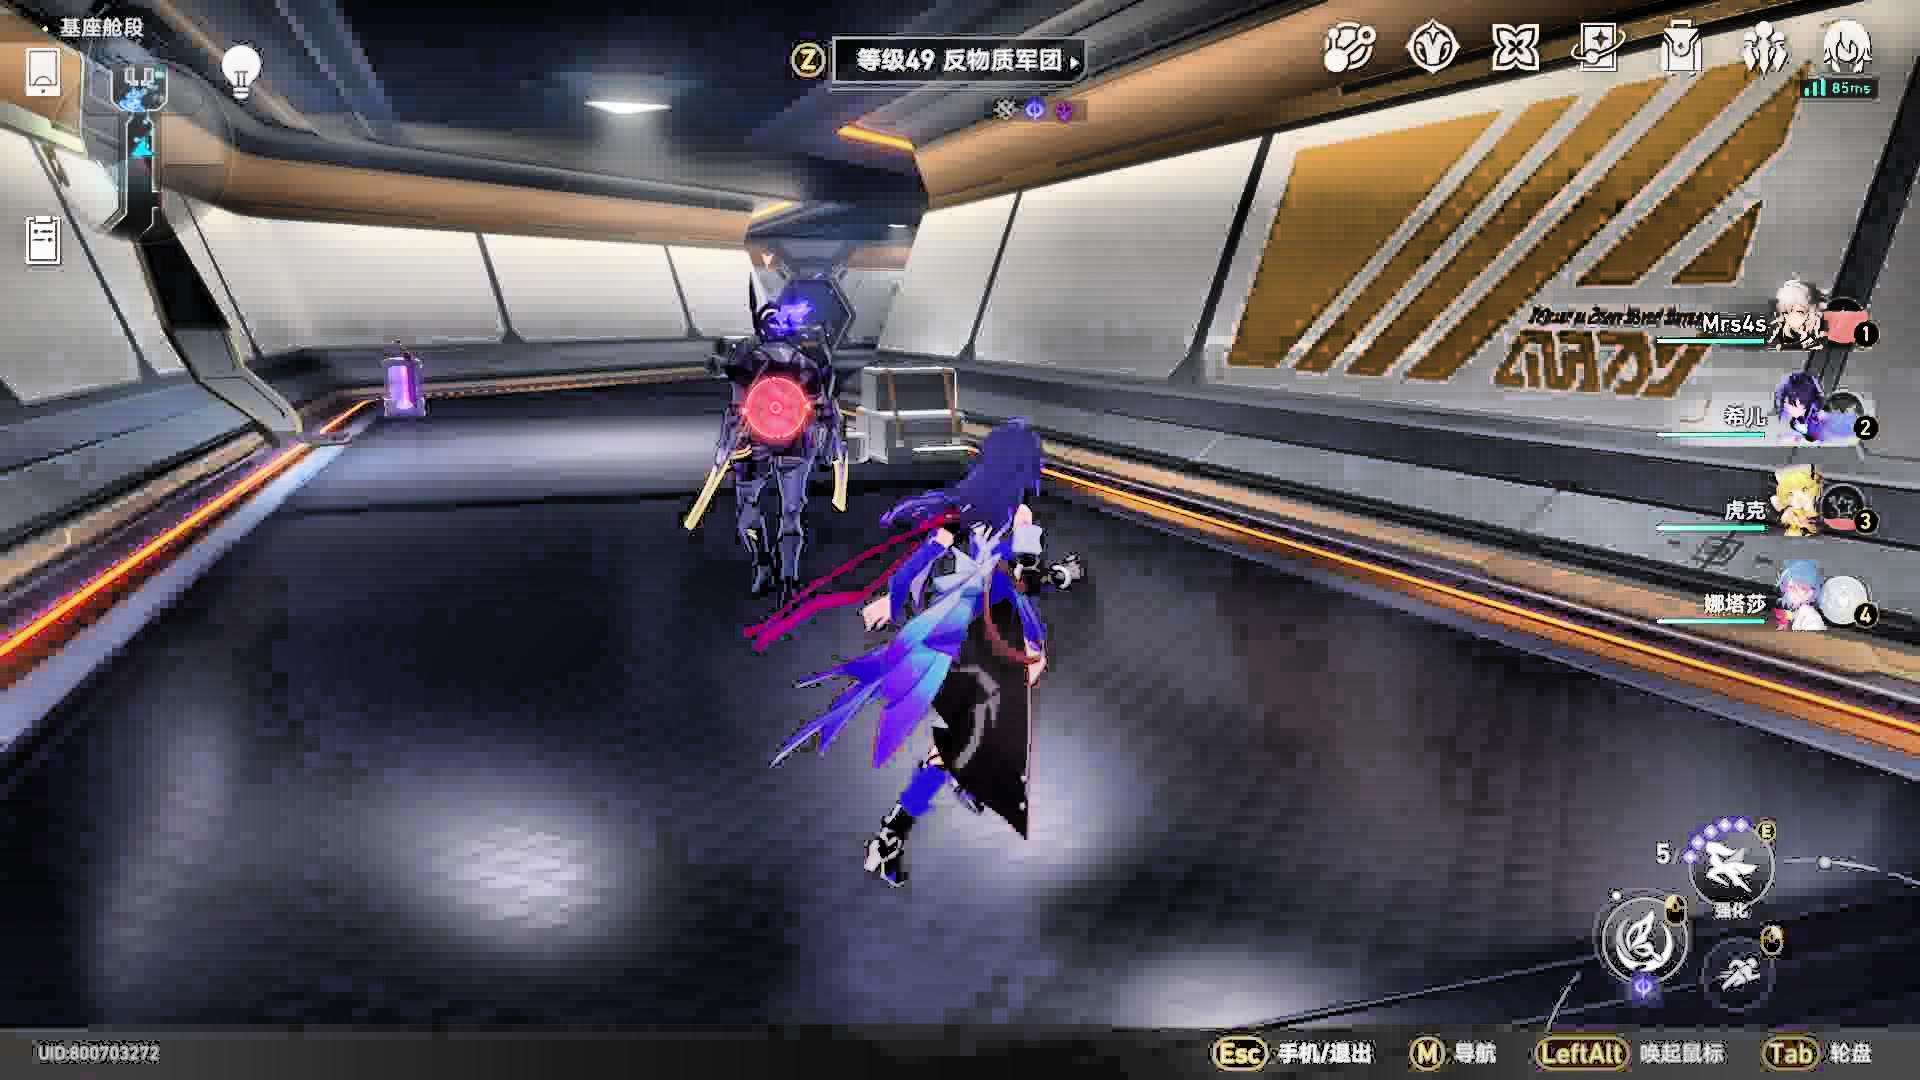Box: (818, 357, 967, 465)
Enemy: (680, 302, 848, 593)
Self: (752, 419, 1092, 890)
